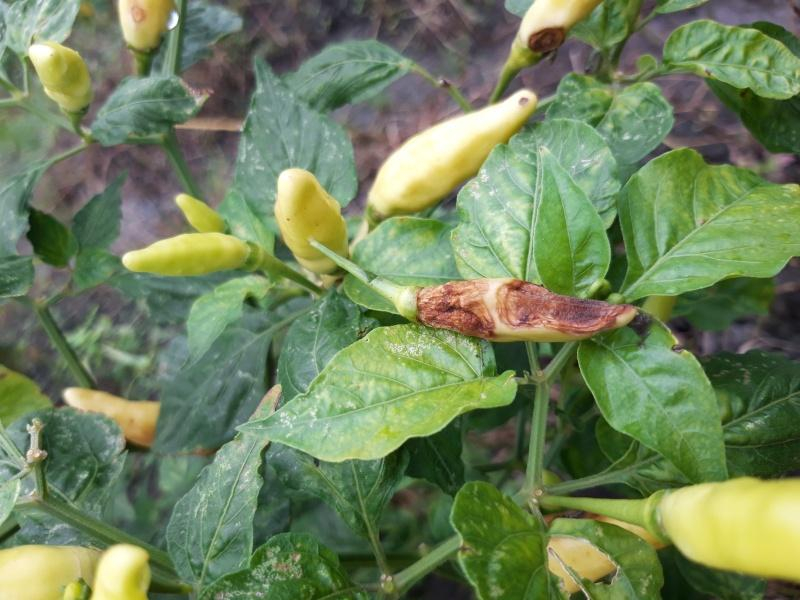antraknosa: (408, 277, 643, 344), (511, 1, 608, 56)
cabai_normal: (364, 88, 538, 214), (660, 473, 800, 583), (266, 163, 356, 280), (117, 230, 247, 282), (65, 389, 159, 446), (26, 39, 94, 111), (174, 193, 221, 230)
